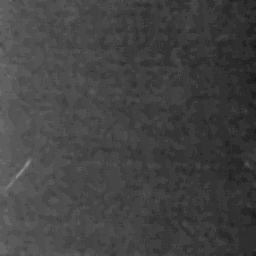sct: (1, 153, 36, 202)
